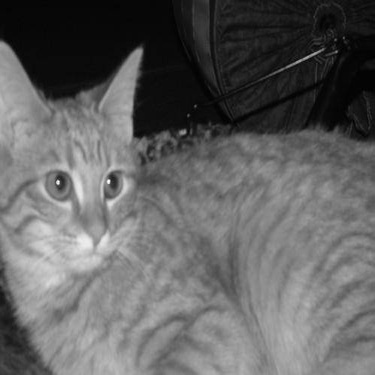cat: (1, 42, 366, 355)
